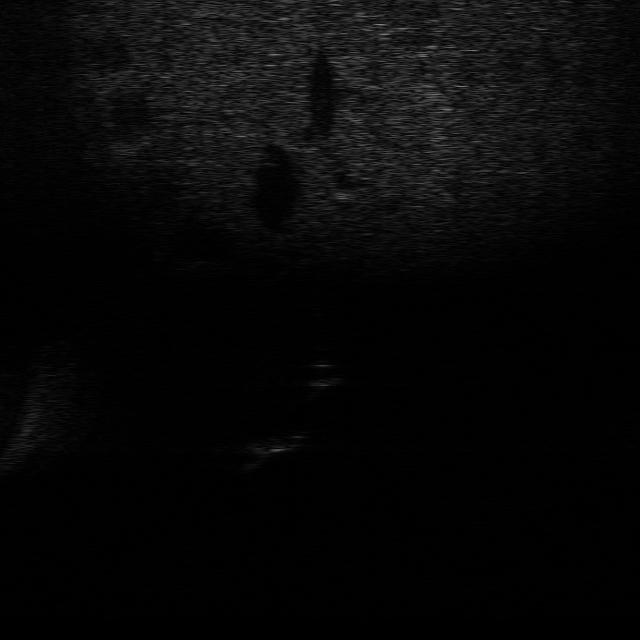ball: (291, 357, 351, 391)
square cage: (234, 427, 310, 468)
